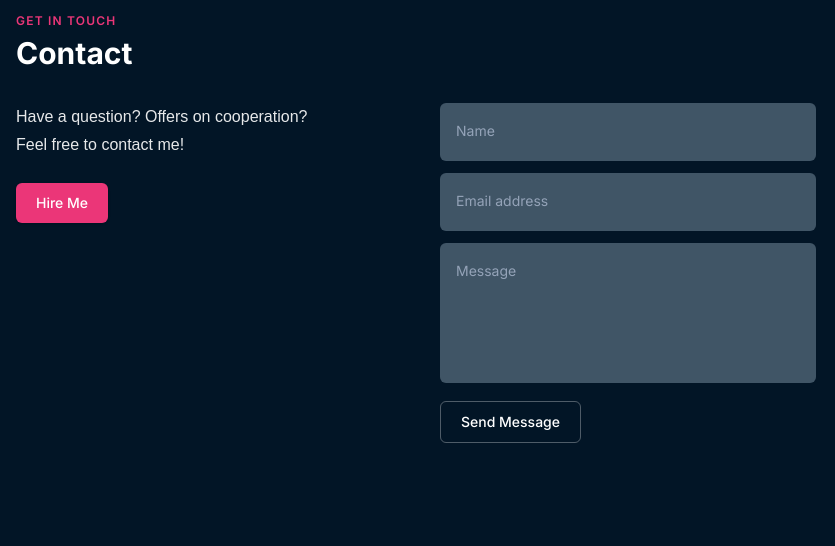
ContactSection › shows server error message on non-ok response
Type "Test" into the field labelled "Name".
click(628, 132); type("Test")  # box [440,103,816,161]
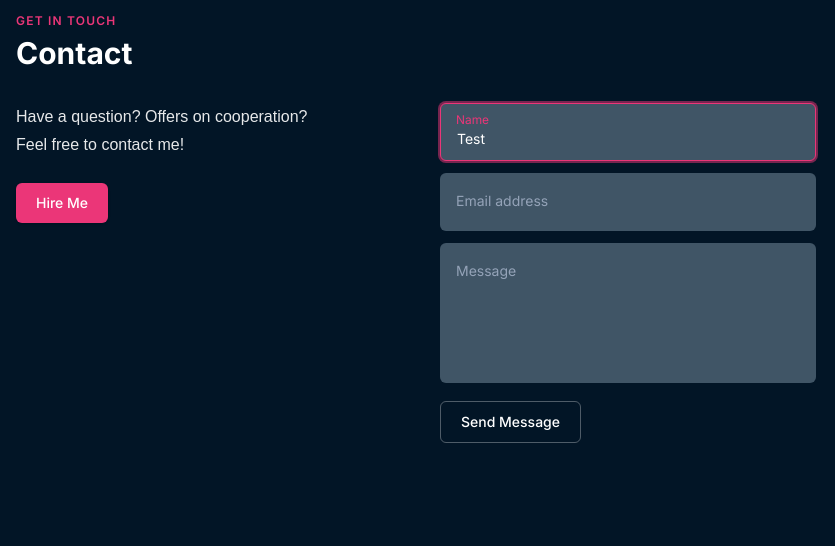
Type "test@test.com" into the field labelled "Email address".
click(628, 202); type("test@test.com")  # box [440,173,816,231]
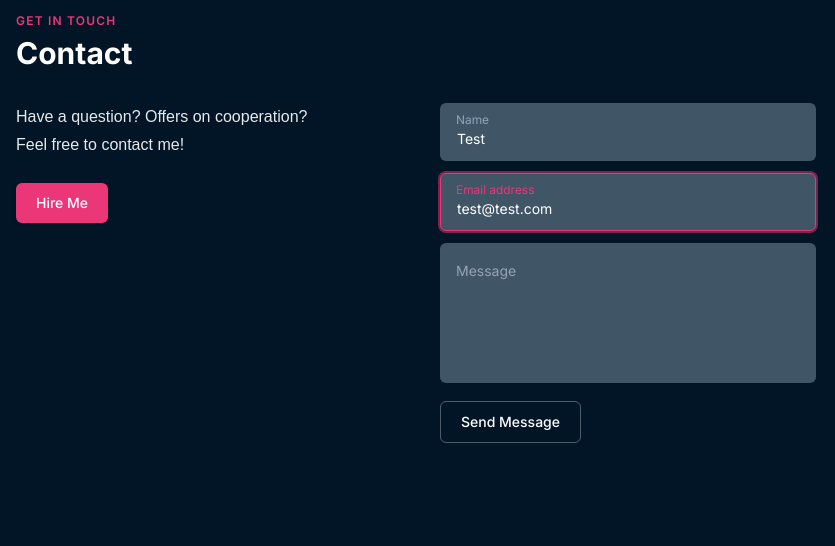
Type "Hi" into the text box labelled "Message".
click(628, 313); type("Hi")  # box [440,243,816,383]
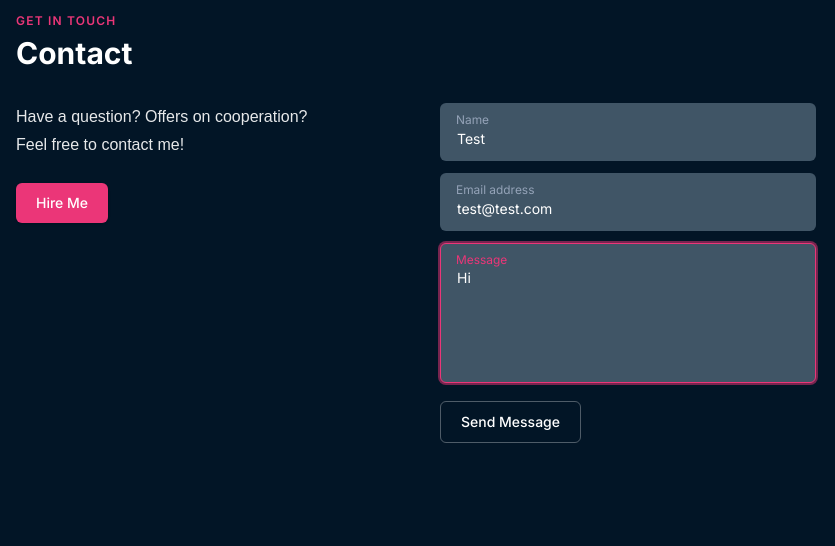
Click the button "Send Message".
click(510, 422)  # box [440,401,581,443]
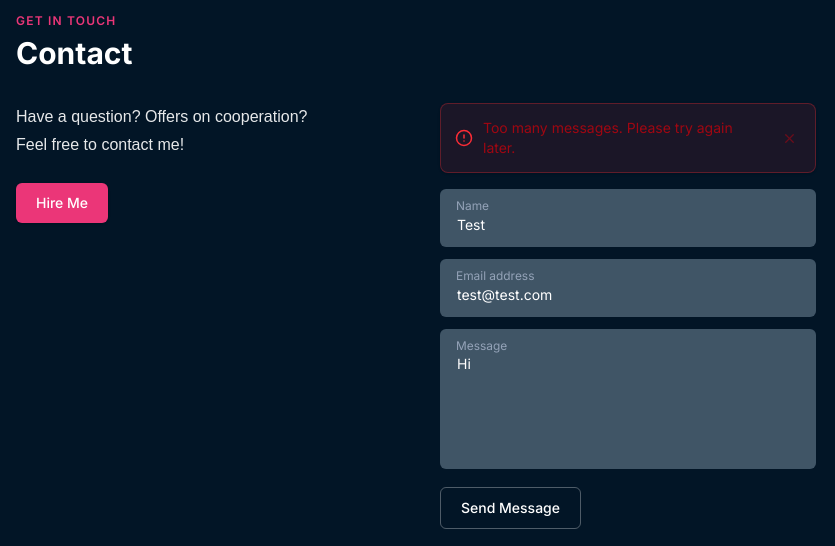
Now the text "Too many messages. Please try again later." is shown, box [483,118,766,158]
